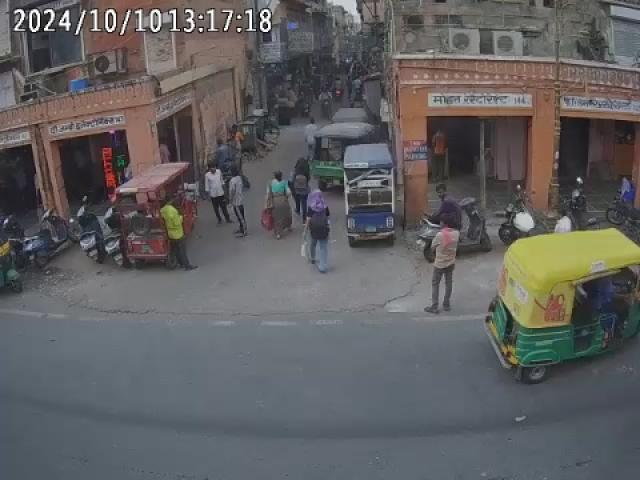auto: (482, 232, 640, 386), (114, 160, 198, 268), (340, 143, 396, 248)
person: (424, 215, 462, 311), (301, 184, 332, 270), (158, 198, 190, 270), (262, 171, 295, 238), (204, 162, 232, 224), (224, 163, 248, 234)
scooty: (22, 206, 72, 269), (73, 195, 116, 264), (566, 180, 592, 229)
